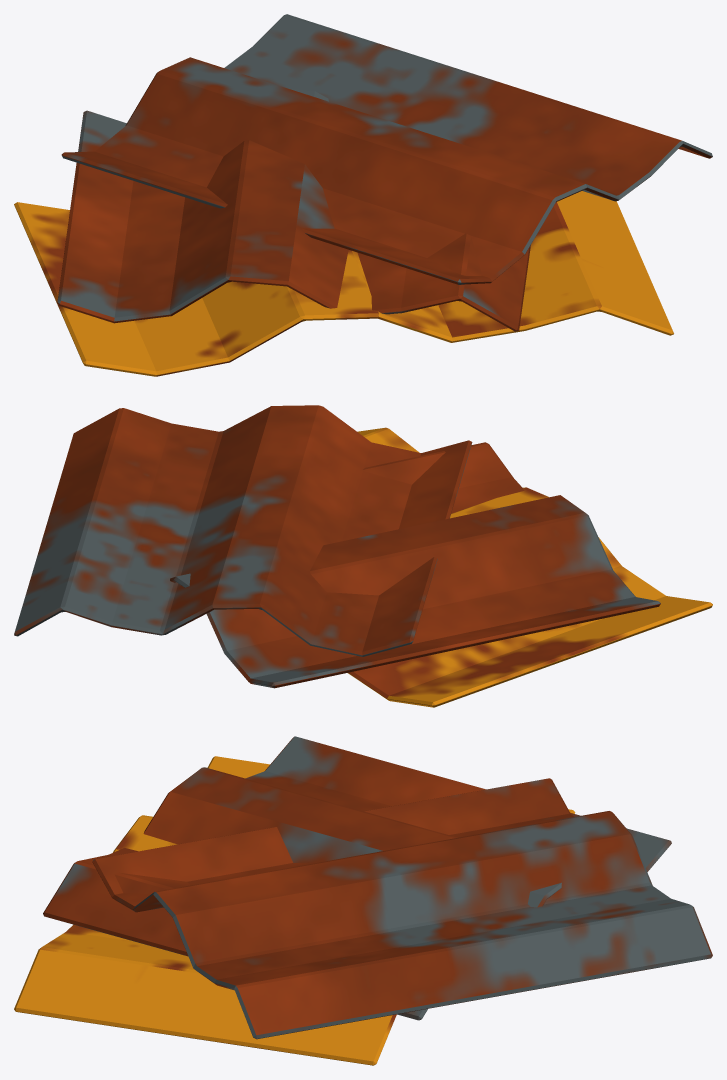
Rendered from sheets-17.glb.
The picture shows the model from 3 angles, top to bottom: view 1: azimuth 30°, elevation 25°; view 2: azimuth 150°, elevation 25°; view 3: azimuth 270°, elevation 25°; orthographic projection. The views are drawn at different scales.
Parts seen in each view (by area): view 1: sheets-17; view 2: sheets-17; view 3: sheets-17.
Part boxes in pixels (x1,y1,x2,y2): sheets-17: (14, 14, 712, 376); sheets-17: (14, 405, 712, 707); sheets-17: (14, 736, 712, 1065).
Size of the model in its own units: 0.8692 by 0.1268 by 0.8144.
2 materials, 2 textured.
